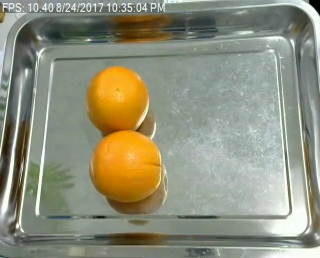Orange: (89, 131, 164, 203), (86, 66, 150, 134)
